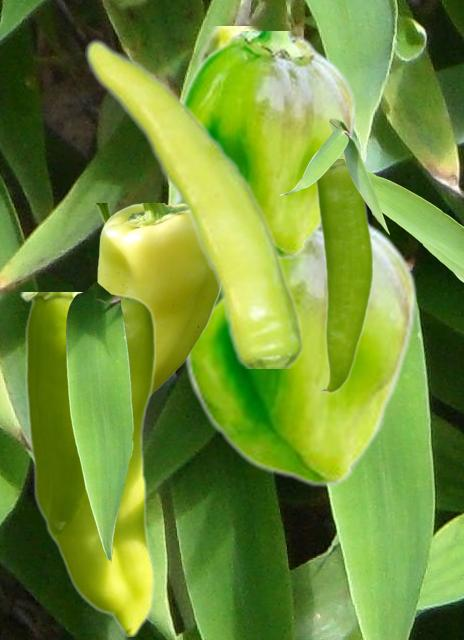green_chili: (85, 37, 301, 367), (183, 217, 417, 487), (19, 292, 154, 635), (180, 31, 356, 259), (166, 26, 266, 318), (93, 203, 219, 396), (314, 159, 372, 393)
